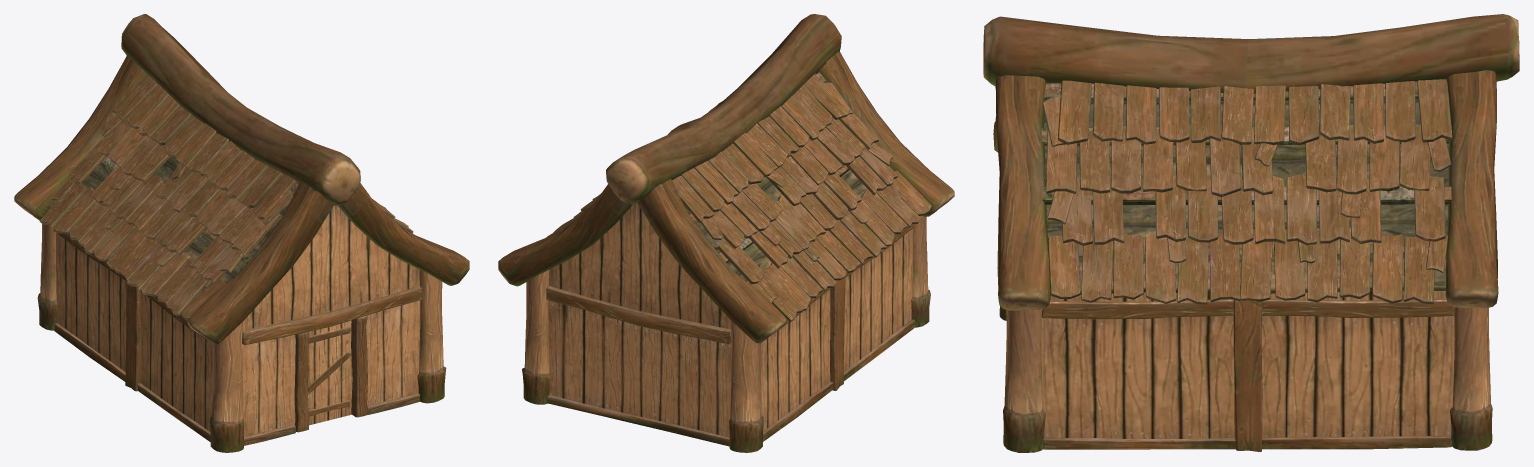
Rendered from wooden_shed.glb.
3 renders of one model, left to right at view 1: azimuth 30°, elevation 25°; view 2: azimuth 150°, elevation 25°; view 3: azimuth 270°, elevation 25°, orthographic. The views are drawn at different scales.
Parts seen in each view (by area): view 1: roof, walls; view 2: roof, walls; view 3: roof, walls.
Part boxes in pixels (<box>): roof: <box>14,14,469,349</box>; walls: <box>22,208,465,452</box>; roof: <box>498,14,954,347</box>; walls: <box>502,203,946,452</box>; roof: <box>983,14,1519,315</box>; walls: <box>994,144,1498,452</box>.
Size of the model in its own units: 4.59 by 4.33 by 5.82.
1 material, 1 textured.
